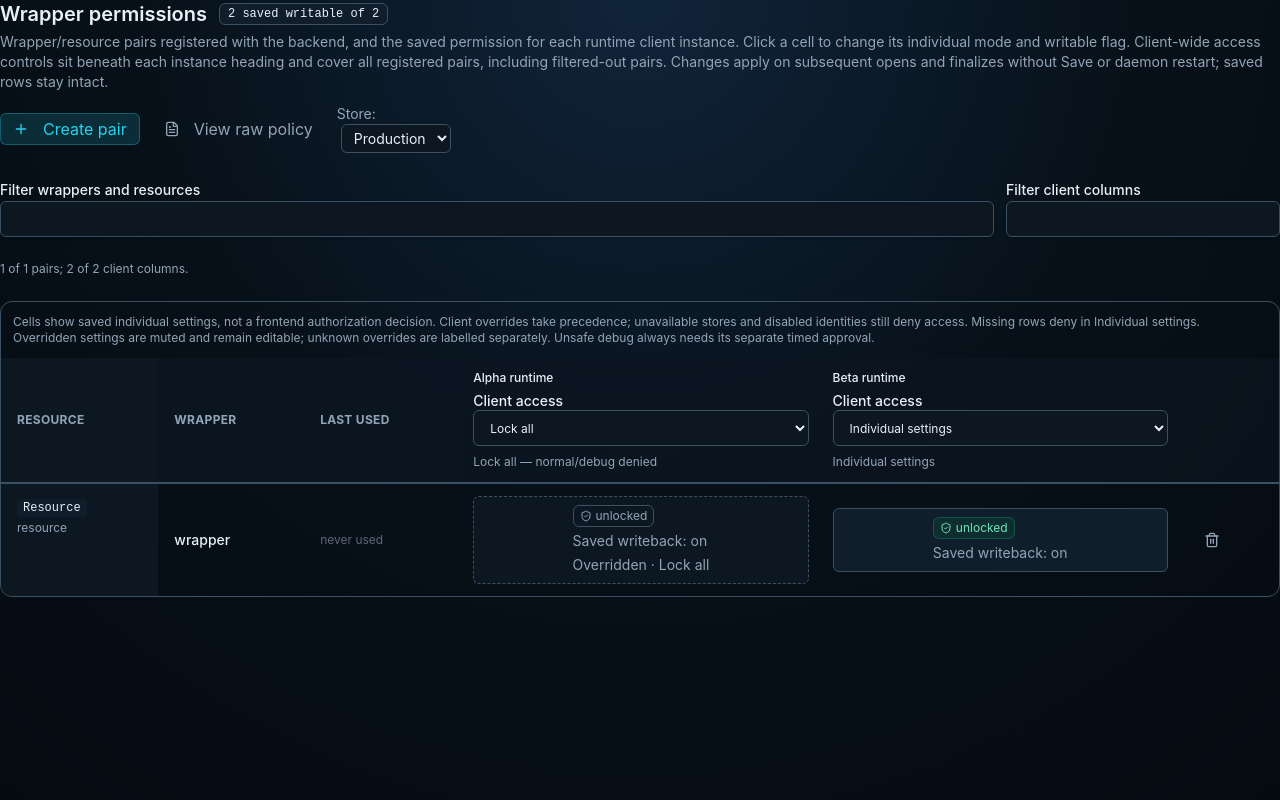
Test: instance controls in permission columns › marks an ambiguous update unknown rather than retaining the previous override's visual claim
Expected: the button with test id "wrappers-cell-wrapper-resource-Alpha" is shown, [473,496,809,584]
Select "Individual settings" in the dropdown labelled "Client access" below "Alpha runtime" at coordinates (641, 428), box [473,410,809,446]
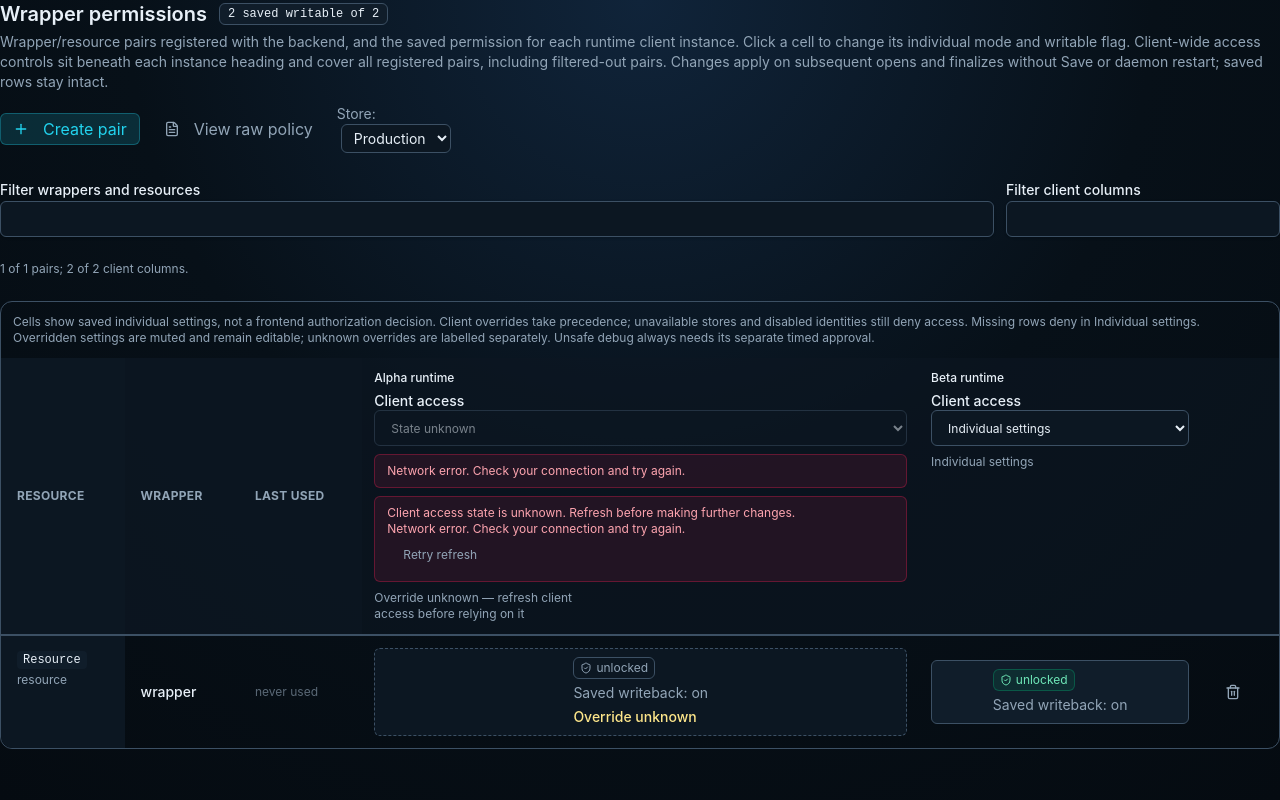
Expected: the button with test id "wrappers-cell-wrapper-resource-Alpha" shows "Override unknown", [374,648,907,736]
Expected: the button with test id "wrappers-cell-wrapper-resource-Alpha" no longer shows "Overridden · Lock all", [374,648,907,736]
Type "Beta" into the search field labelled "Filter client columns" at coordinates (1143, 219), box [1006,201,1279,237]
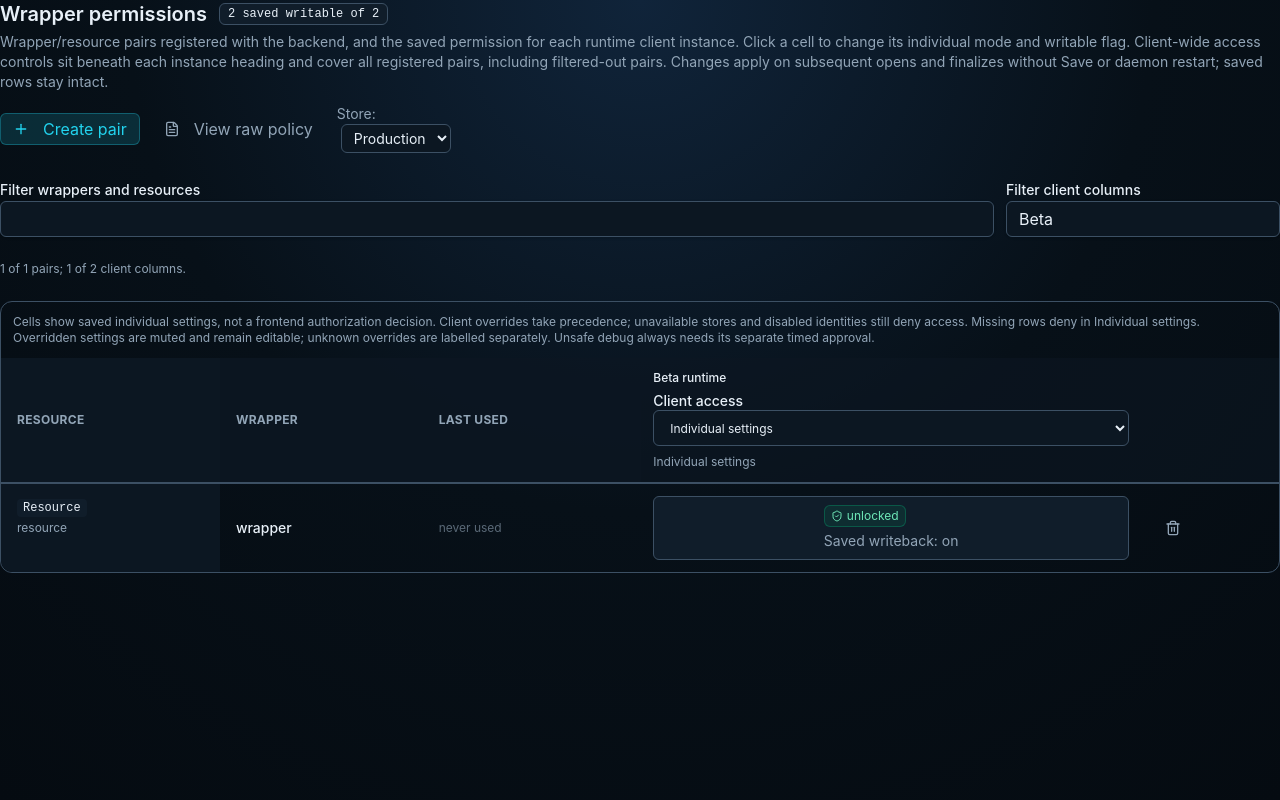
Clear the search field labelled "Filter client columns" at coordinates (1143, 219), box [1006,201,1279,237]
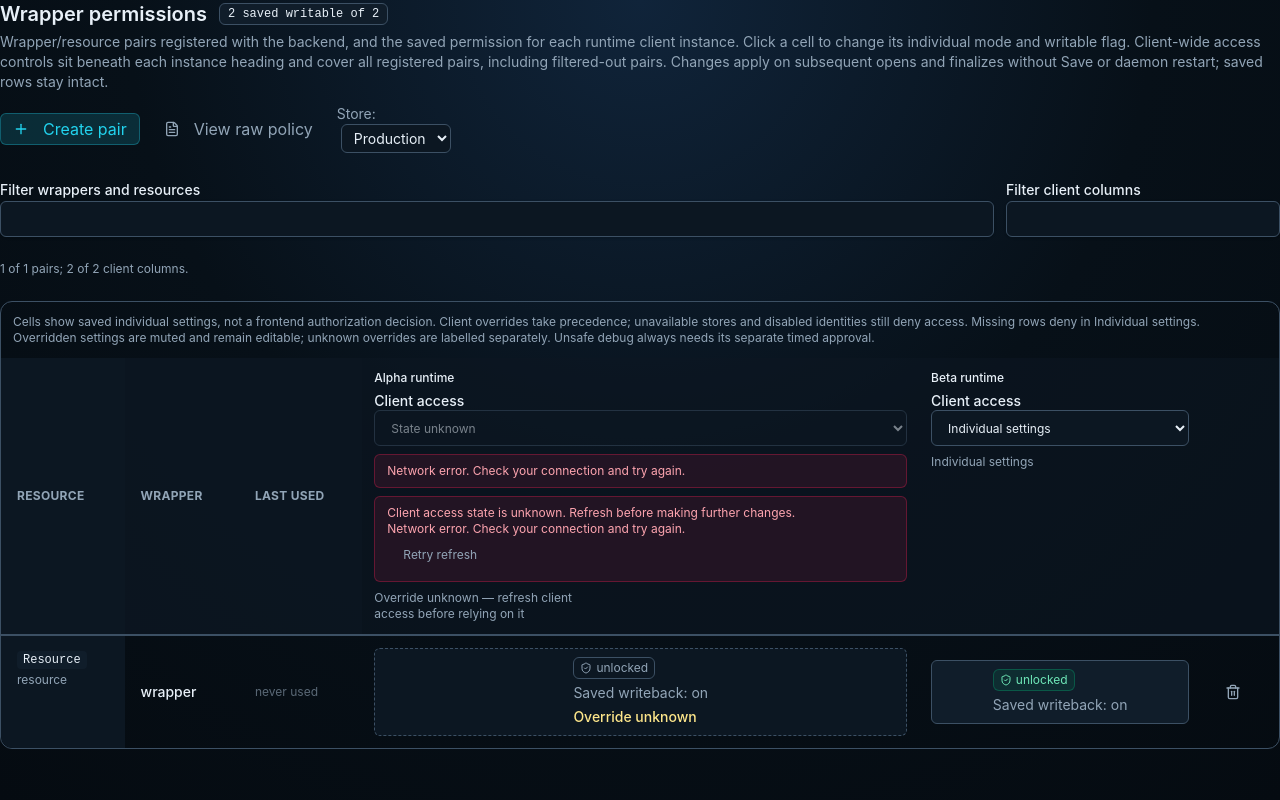
Expected: the button with test id "wrappers-cell-wrapper-resource-Alpha" shows "Override unknown"
Click the button with test id "wrappers-cell-wrapper-resource-Alpha" at coordinates (641, 692), box [374,648,907,736]
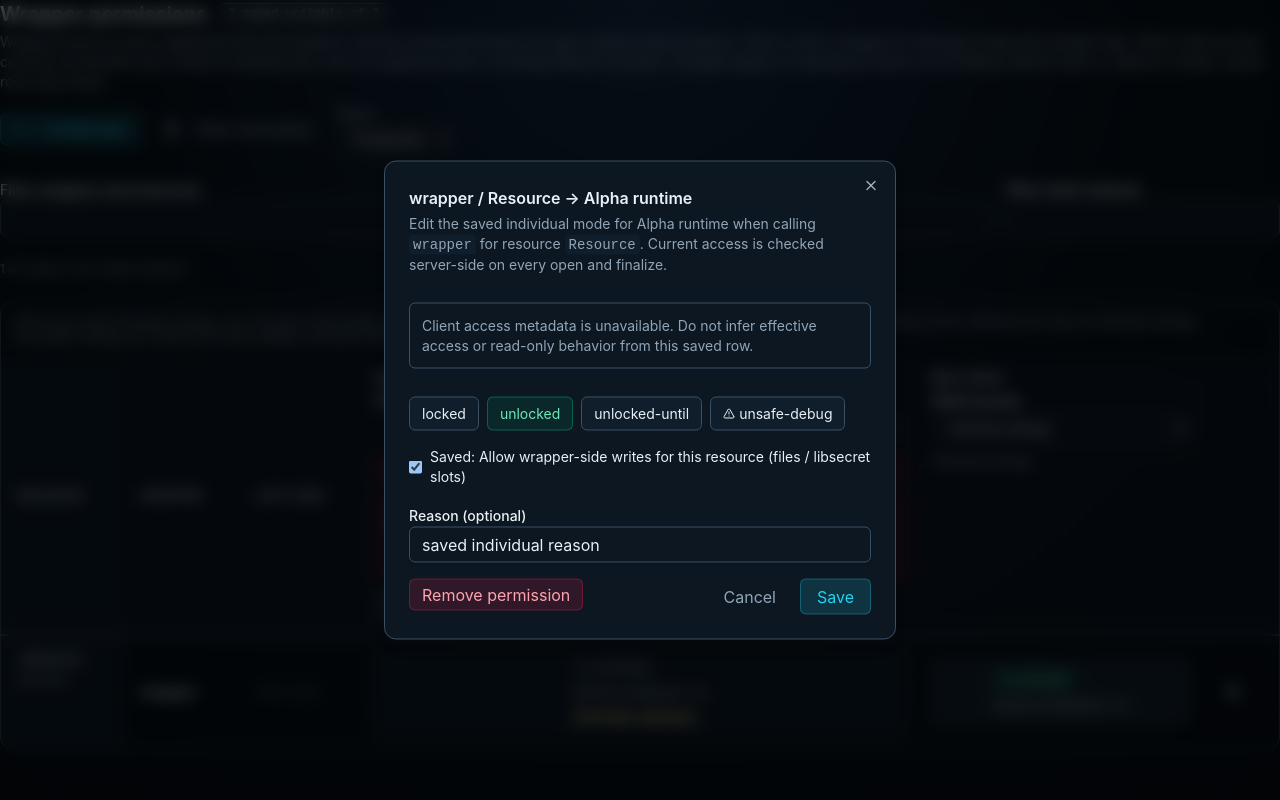
Click the button "Cancel" at coordinates (750, 596), box [708,578,792,614]
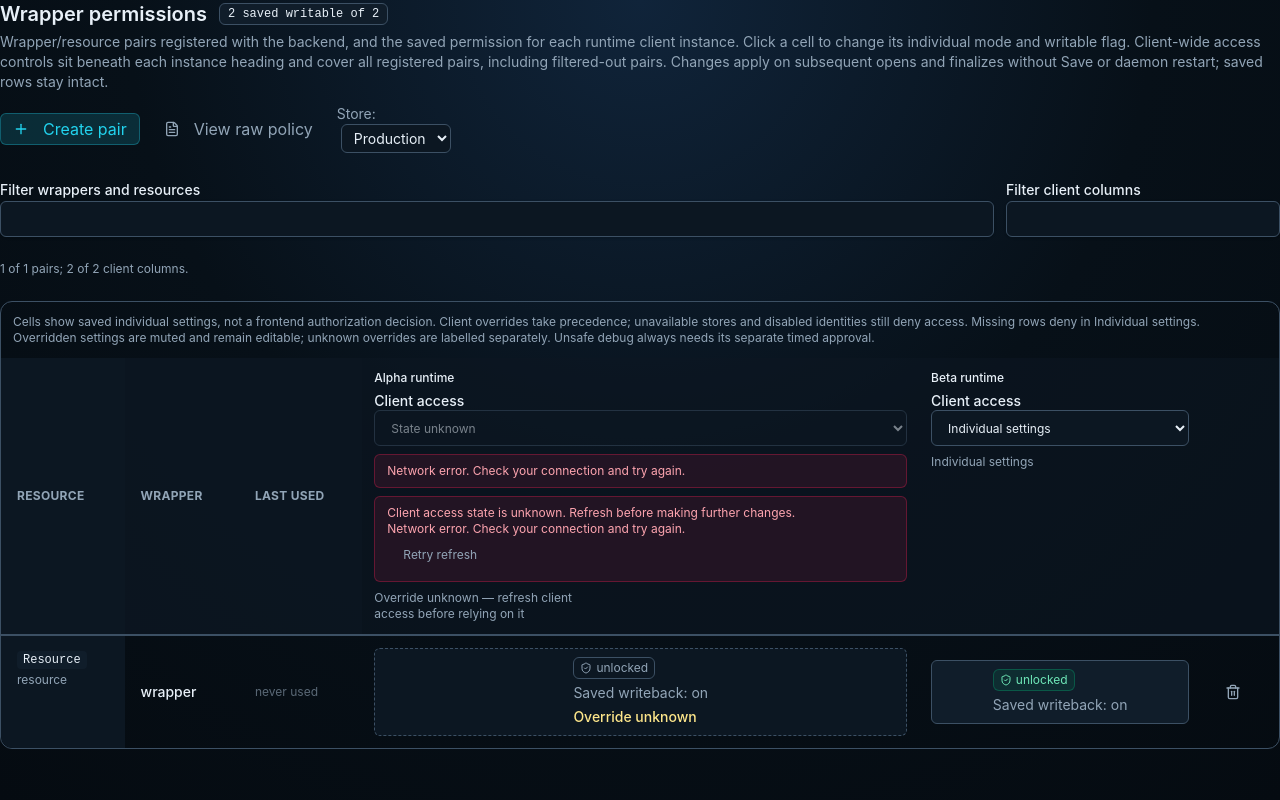
Click the button "Retry refresh" at coordinates (440, 555), box [387,537,493,573]
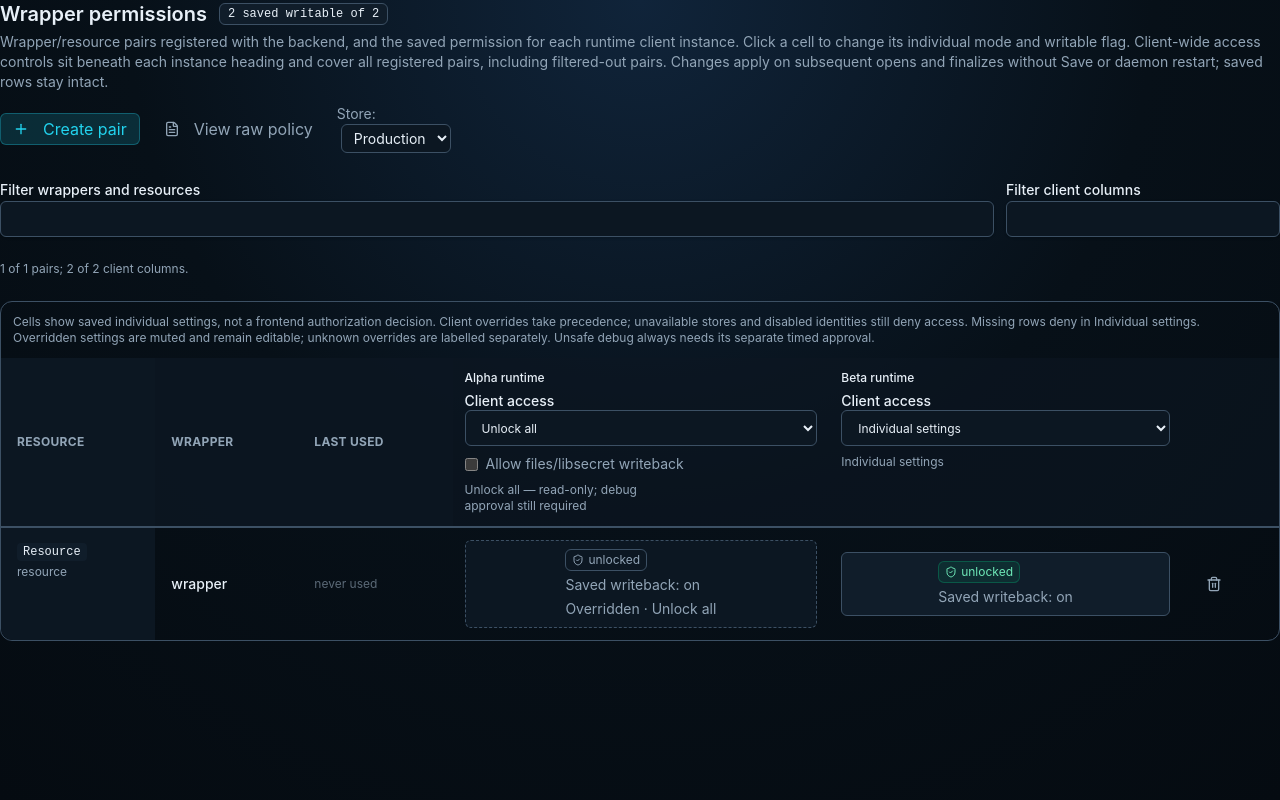
Expected: the button with test id "wrappers-cell-wrapper-resource-Alpha" shows "Overridden · Unlock all", [464,540,817,628]
Expected: the button with test id "wrappers-cell-wrapper-resource-Alpha" no longer shows "Override unknown", [464,540,817,628]
